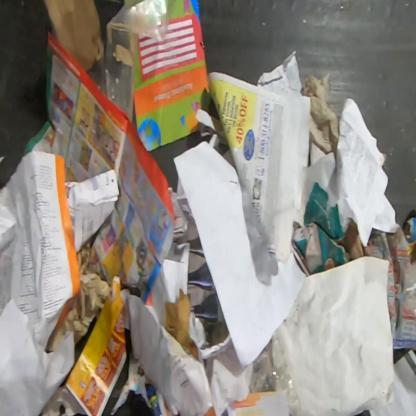cardboard: (43, 0, 105, 73), (164, 288, 192, 352)
soft_plastic: (249, 327, 302, 416)
